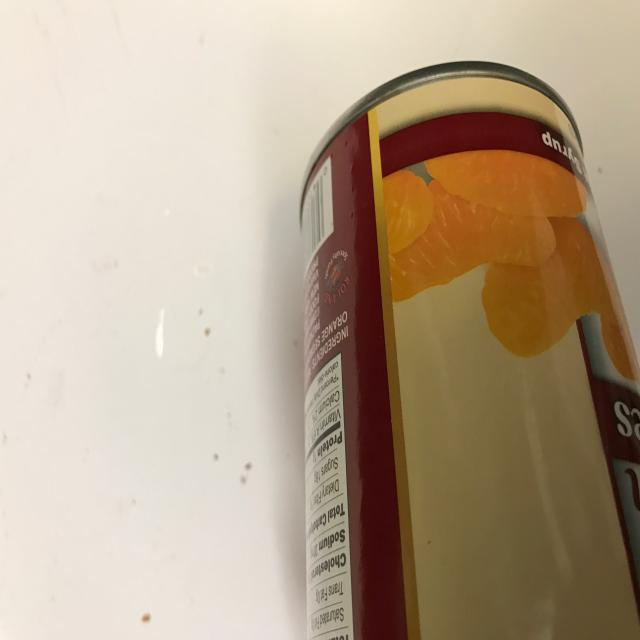metal: (299, 59, 640, 640)
